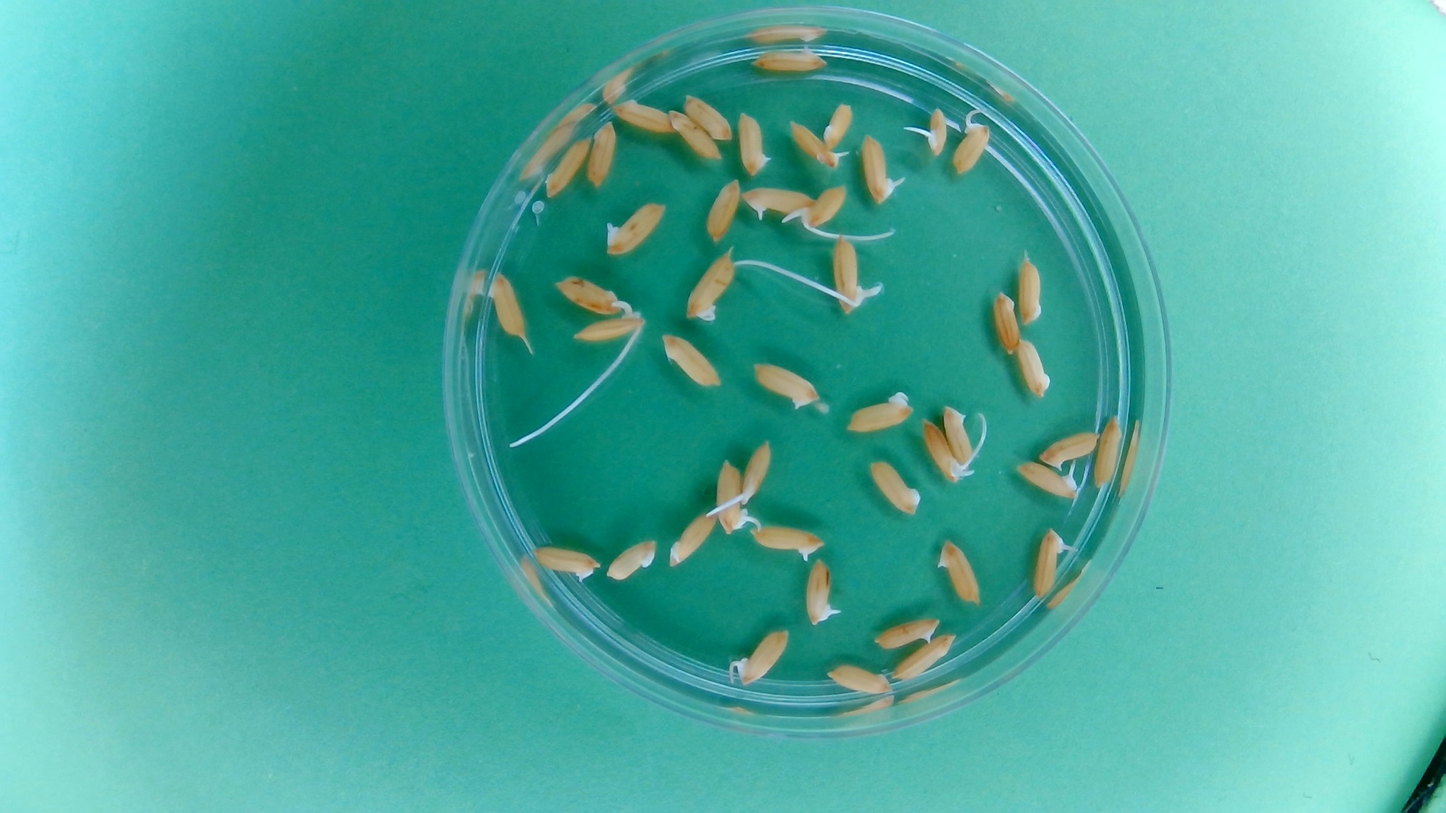no: (683, 248, 737, 324), (751, 359, 821, 410), (660, 331, 721, 389), (935, 536, 984, 608), (866, 456, 923, 517), (891, 632, 959, 682), (485, 269, 530, 343), (843, 388, 915, 434), (542, 135, 592, 199), (667, 107, 723, 163), (554, 274, 626, 317), (667, 511, 718, 569), (749, 523, 824, 562), (529, 544, 601, 583), (683, 91, 735, 142), (1091, 412, 1124, 492), (736, 108, 773, 178), (1037, 429, 1101, 469), (1014, 336, 1054, 400), (872, 615, 941, 652), (610, 97, 675, 136), (703, 176, 740, 243), (606, 537, 659, 583), (749, 44, 830, 74), (824, 662, 895, 696), (584, 119, 618, 190), (941, 403, 978, 468), (1015, 251, 1046, 327), (990, 288, 1022, 358), (822, 99, 855, 151)
yes: (603, 199, 669, 257), (735, 627, 792, 686), (920, 418, 966, 484), (1030, 527, 1069, 601), (787, 120, 845, 169), (829, 235, 865, 313), (1014, 460, 1080, 501), (742, 184, 816, 220), (716, 461, 751, 537), (571, 310, 647, 344), (952, 117, 993, 178), (859, 137, 894, 205), (799, 183, 849, 230), (739, 439, 773, 505), (804, 559, 837, 626), (925, 107, 950, 157)
